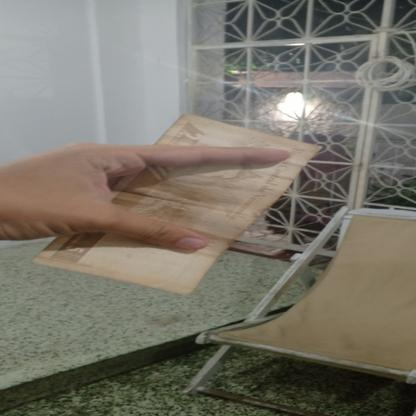five-back-vef: (32, 112, 323, 295)
